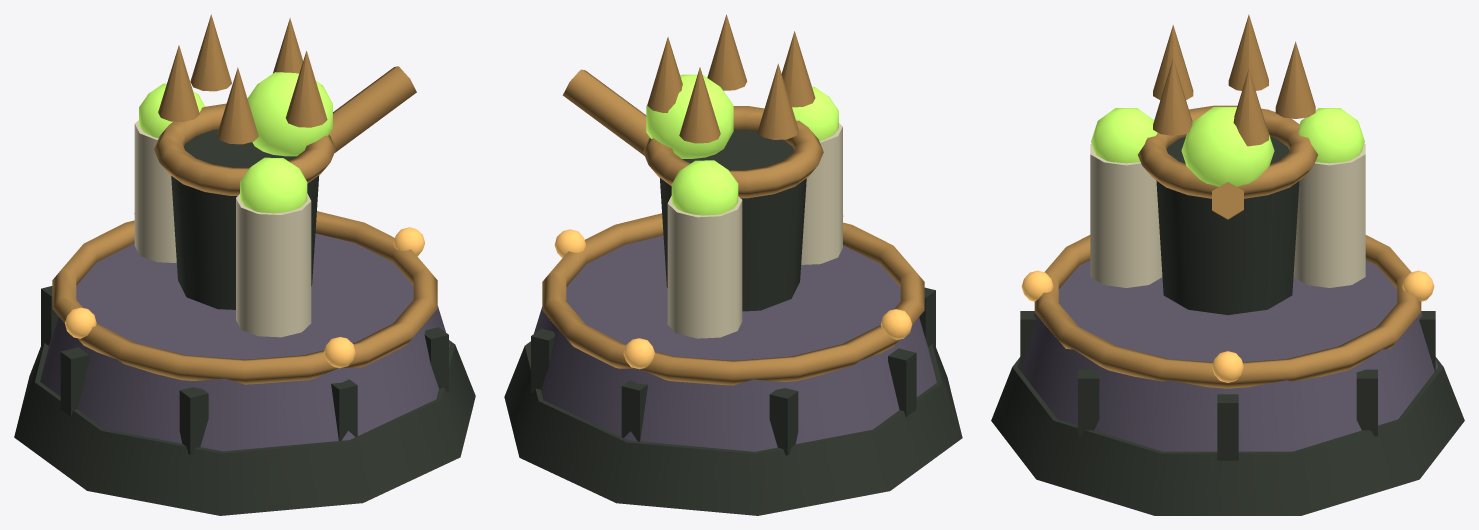
The model's file is tower_poison_poisonGland_ultimate.glb.
3 views of the same model, side by side, from view 1: azimuth 30°, elevation 25°; view 2: azimuth 150°, elevation 25°; view 3: azimuth 270°, elevation 25° (orthographic).
Parts seen in each view (by area): view 1: stone_1, foot_0, rim_2, flask_20, vessel_15, vessel_lip_17, flask_22, gland_19, needle_18, poison_reservoir_21, crown_24, crown_26 (+12 smaller); view 2: stone_1, foot_0, rim_2, vessel_15, flask_22, vessel_lip_17, flask_20, gland_19, needle_18, poison_reservoir_23, crown_24, crown_28 (+12 smaller); view 3: stone_1, foot_0, vessel_15, rim_2, flask_20, flask_22, vessel_lip_17, gland_19, poison_reservoir_23, poison_reservoir_21, crown_24, crown_26 (+12 smaller).
Part boxes in pixels (x1,y1,x2,y2): stone_1: (40,233,449,451); foot_0: (14,340,475,515); rim_2: (52,211,437,384); flask_20: (236,193,311,337); vessel_15: (171,129,319,309); vessel_lip_17: (154,103,335,195); flask_22: (134,120,176,262); gland_19: (247,72,332,156); needle_18: (329,66,416,152); poison_reservoir_21: (240,157,307,213); crown_24: (190,14,231,91); crown_26: (285,51,327,127); stone_1: (530,235,936,451); foot_0: (504,341,962,515); rim_2: (542,213,924,385); vessel_15: (660,129,806,311); flask_22: (667,196,742,338); vessel_lip_17: (643,106,823,198); flask_20: (801,123,842,264); gland_19: (646,74,733,158); needle_18: (562,69,649,155); poison_reservoir_23: (671,160,738,215); crown_24: (679,67,720,143); crown_28: (757,63,798,139); stone_1: (1018,260,1437,451); foot_0: (991,357,1464,515); vessel_15: (1156,136,1299,314); rim_2: (1034,235,1421,388); flask_20: (1090,144,1162,287); flask_22: (1293,144,1365,287); vessel_lip_17: (1138,105,1317,198); gland_19: (1181,107,1274,186); poison_reservoir_23: (1298,108,1364,163); poison_reservoir_21: (1091,108,1157,163); crown_24: (1275,41,1315,118); crown_26: (1153,58,1192,135).
Size of the model in its own units: 0.5326 by 0.495 by 0.56.
